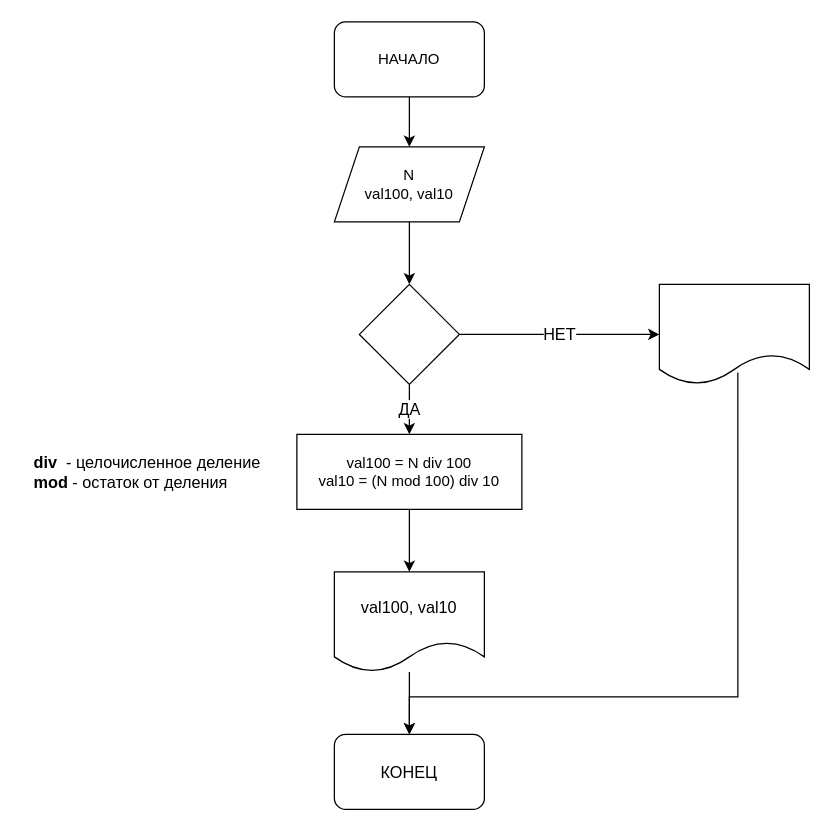
Image size: 831x831. Some labels were removed from this diagram. The centre of each missing label's shape, as x and y in pixels:
"N >= 100" belongs at point (408, 333).
"Ошибка, неверное число" belongs at point (733, 333).
